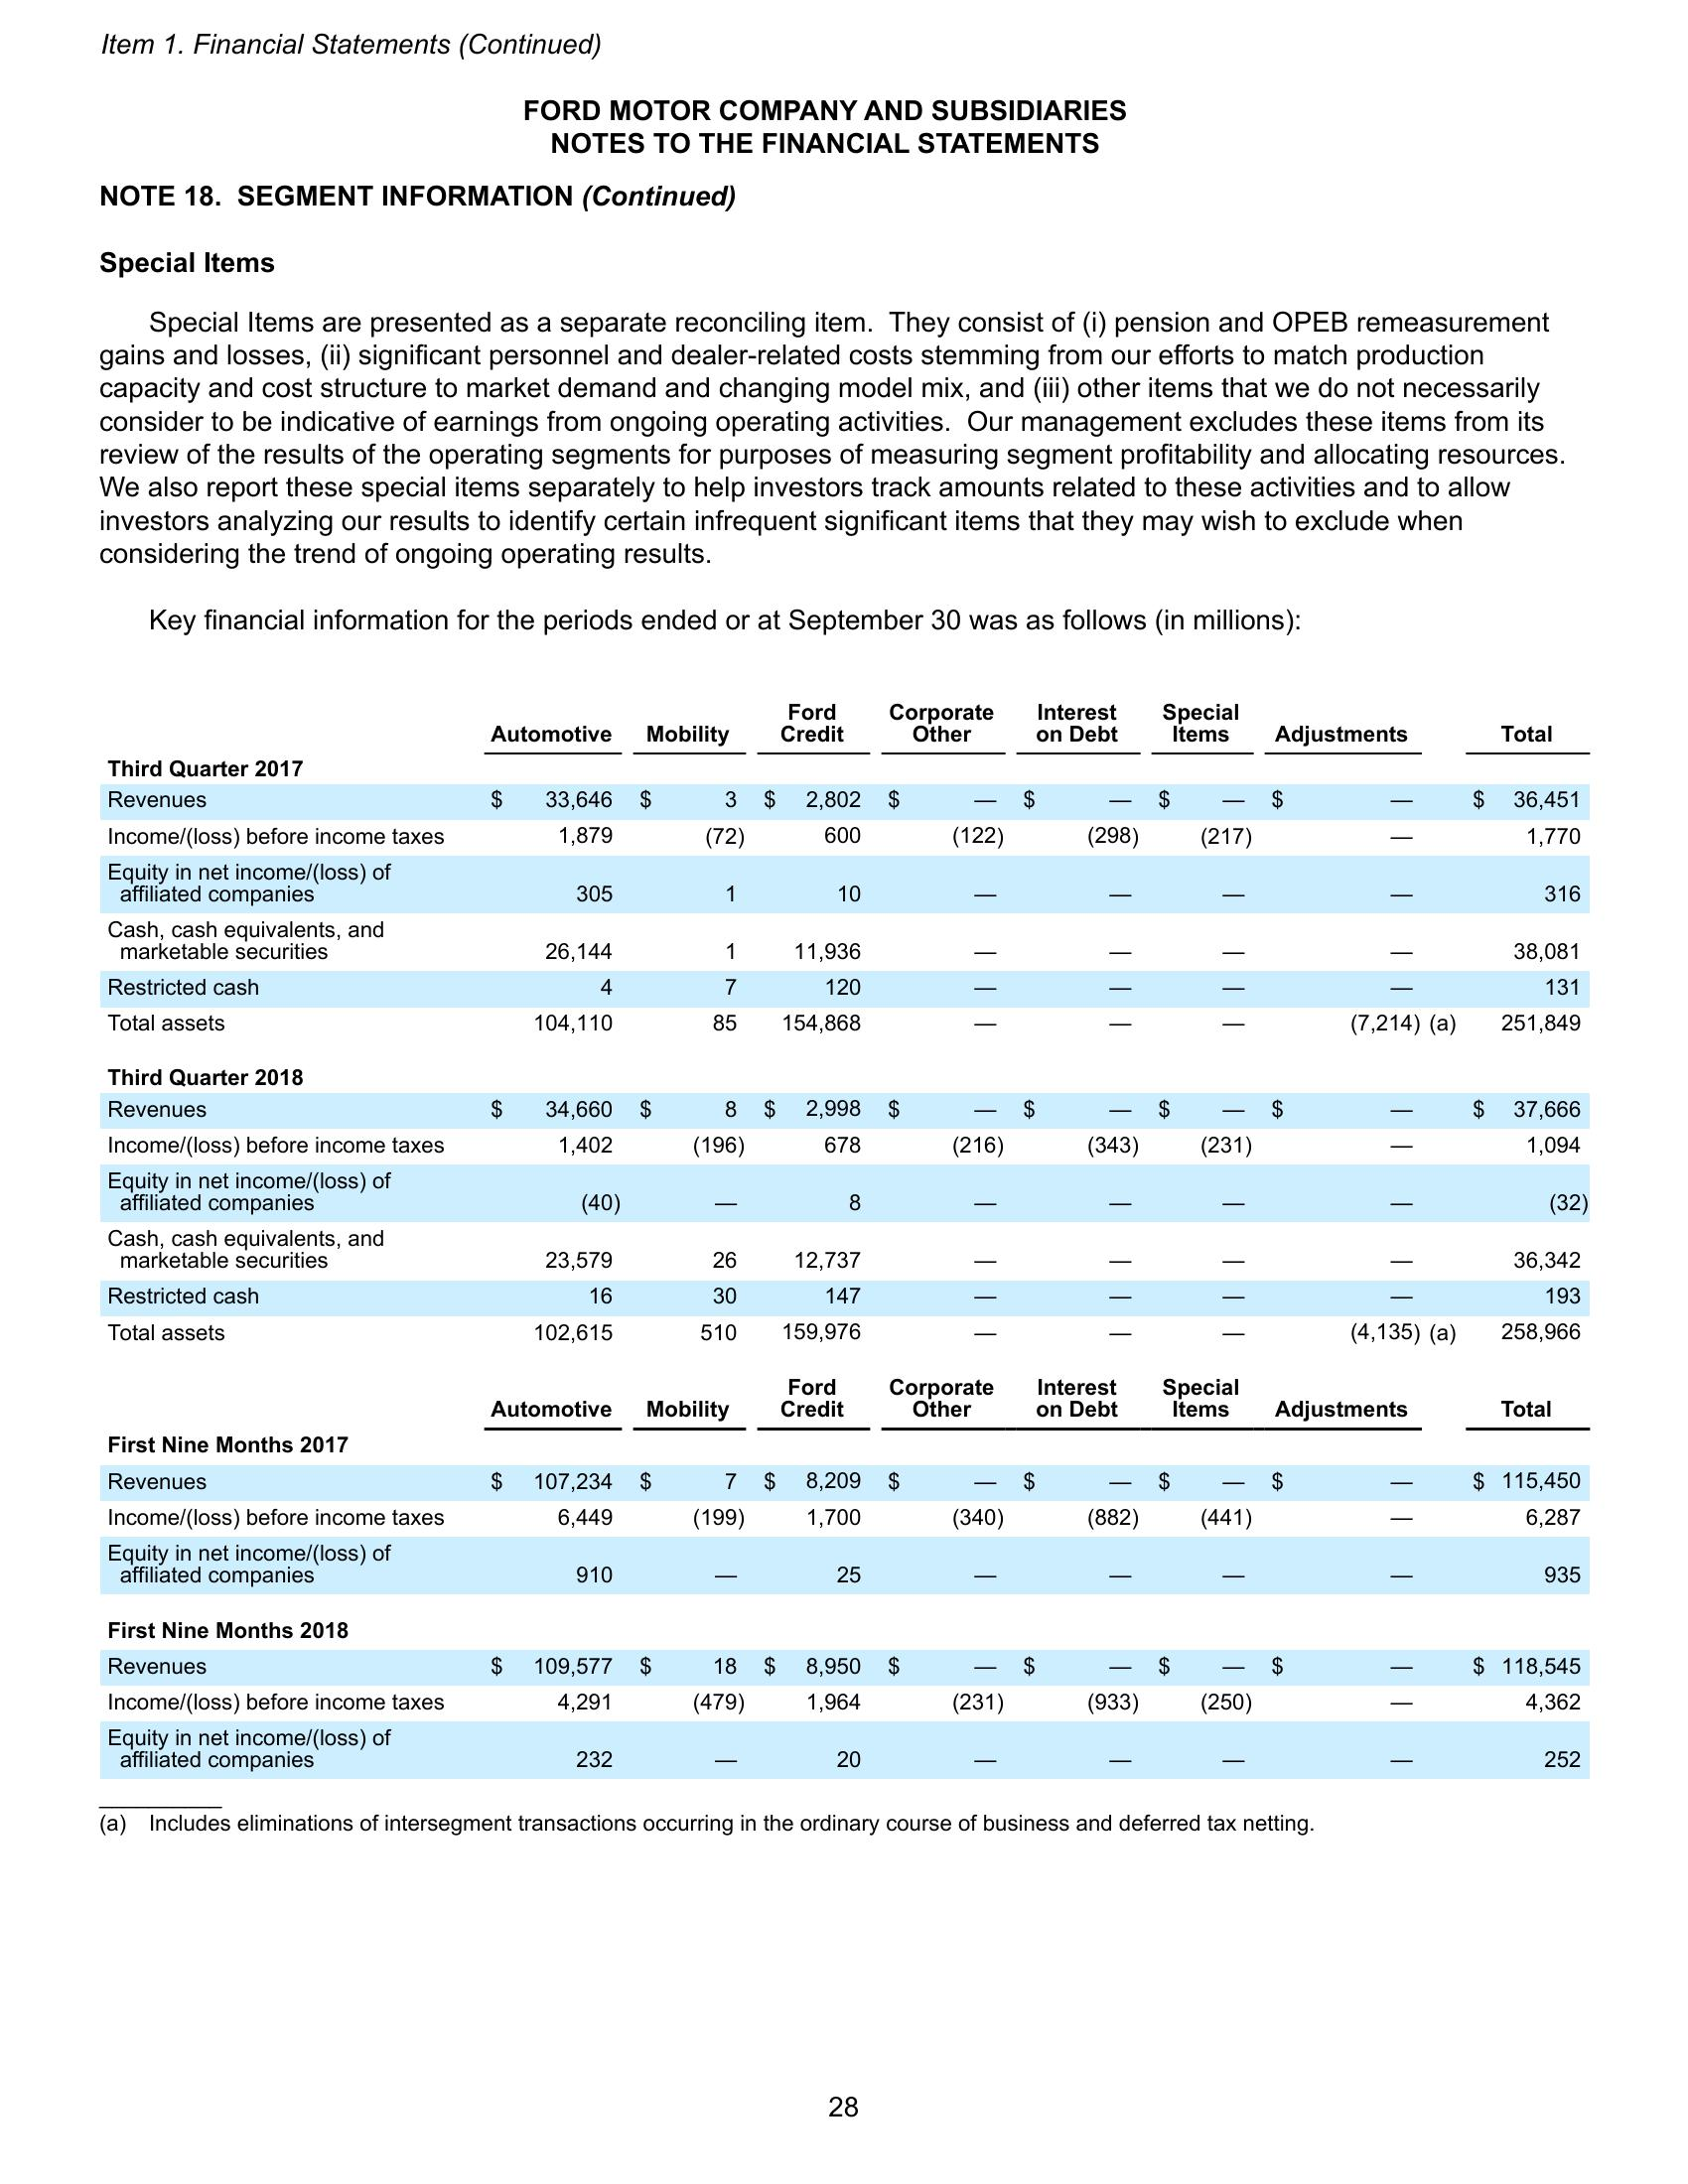table: (92, 691, 1596, 1353), (96, 1372, 1601, 1789)
